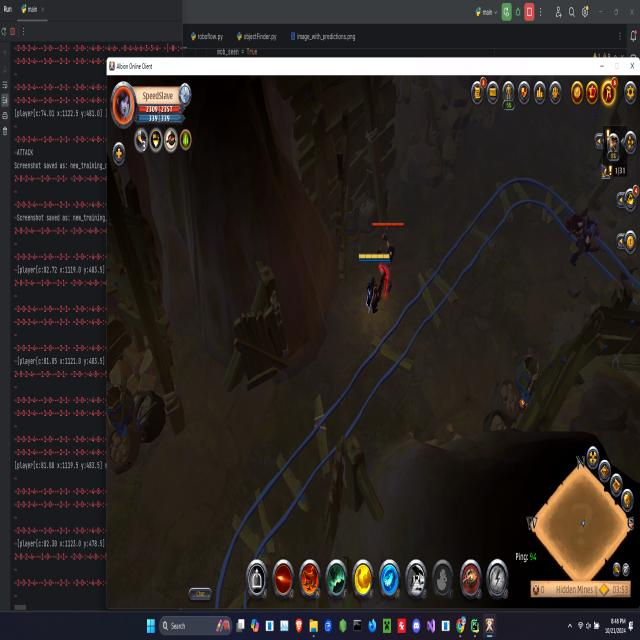ore: (366, 218, 409, 290), (567, 210, 603, 272)
red: (355, 249, 393, 321)
